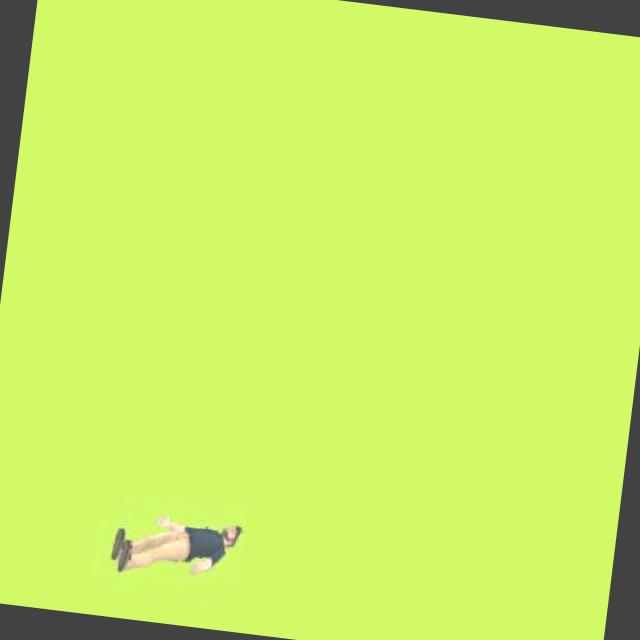Person: (105, 504, 246, 590)
